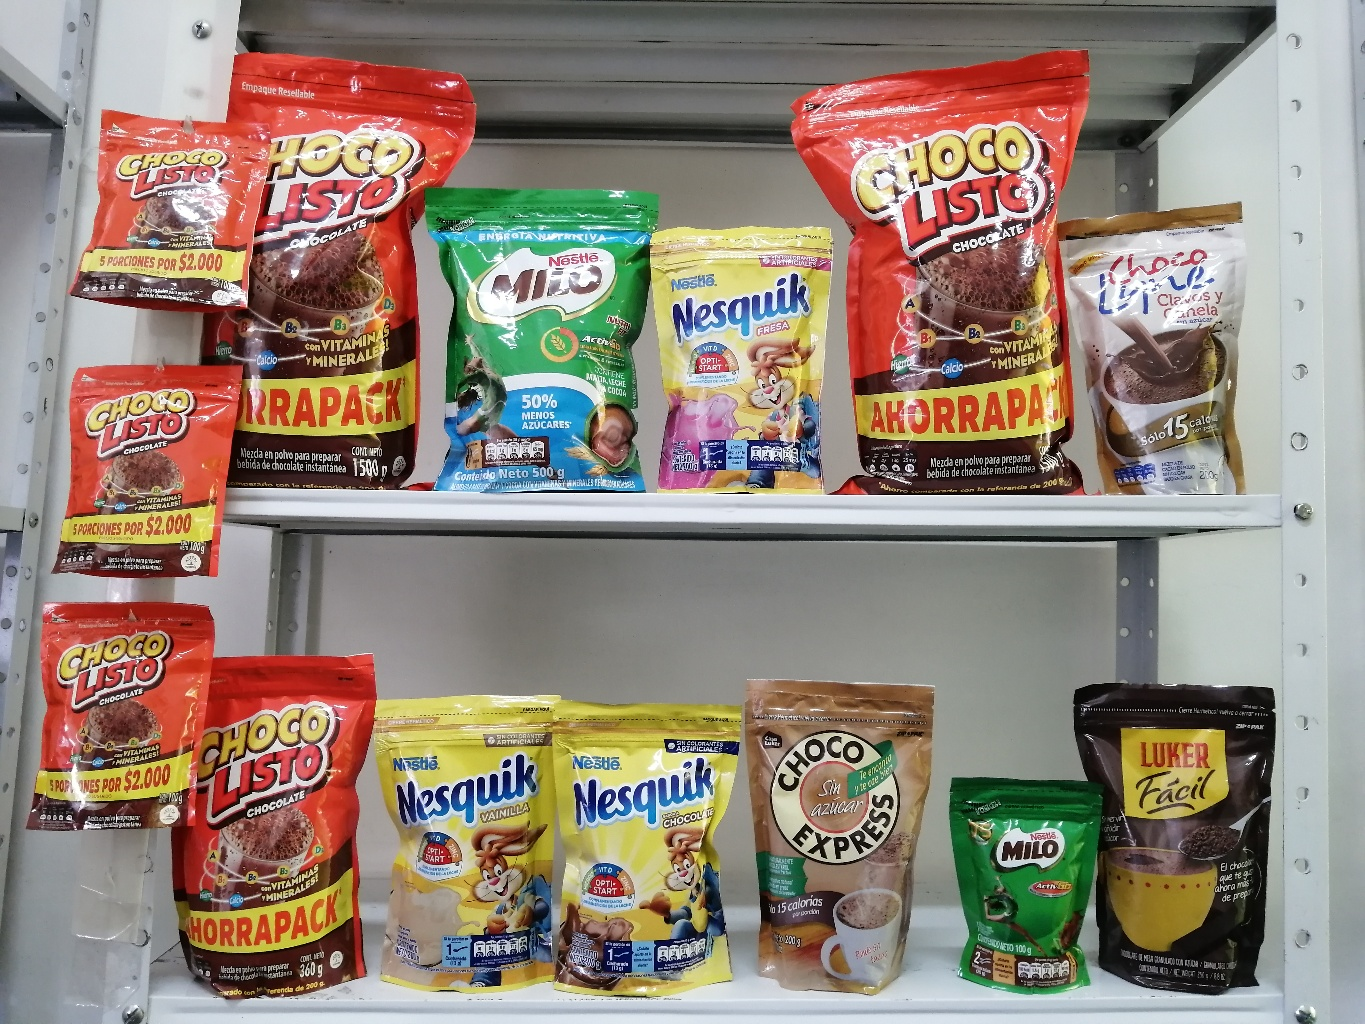COL0170103DYP1,500: (799, 35, 1094, 490)
COL0170103DYP36000: (176, 644, 378, 991)
COL0170203DYP10000: (936, 774, 1113, 992)
COL0170205DYP50000: (431, 177, 662, 487)
COL0170303DYP20000: (545, 694, 753, 999)
COL0170305DYP20000: (653, 216, 835, 494)
COL0170306DYP20000: (369, 682, 570, 996)
